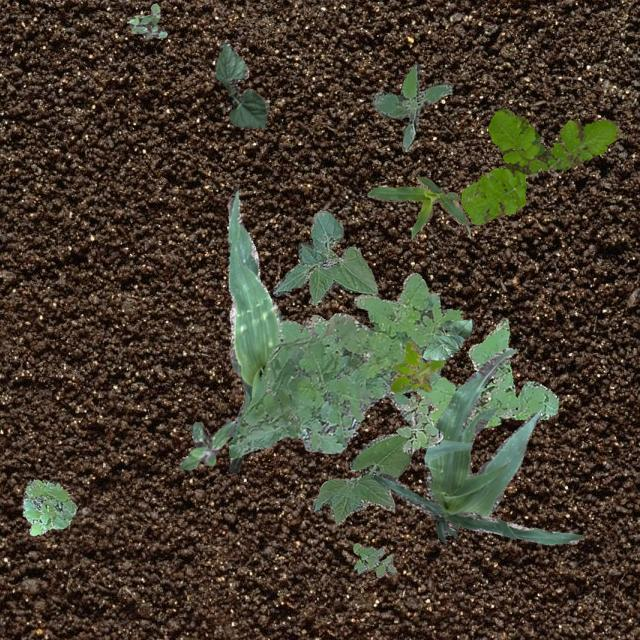crop: (372, 346, 584, 544), (226, 188, 280, 472), (272, 210, 376, 304), (312, 432, 412, 524), (366, 176, 468, 240), (214, 39, 268, 128), (420, 318, 472, 362)
weed: (228, 272, 460, 456), (460, 108, 624, 225), (416, 316, 558, 426), (372, 62, 452, 150), (22, 478, 74, 534), (178, 419, 235, 468), (394, 394, 442, 452), (390, 341, 444, 392), (352, 542, 396, 576), (126, 2, 166, 38)
